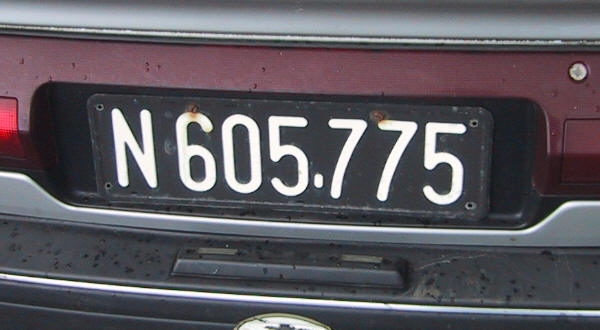license_plate: (86, 94, 492, 217)
